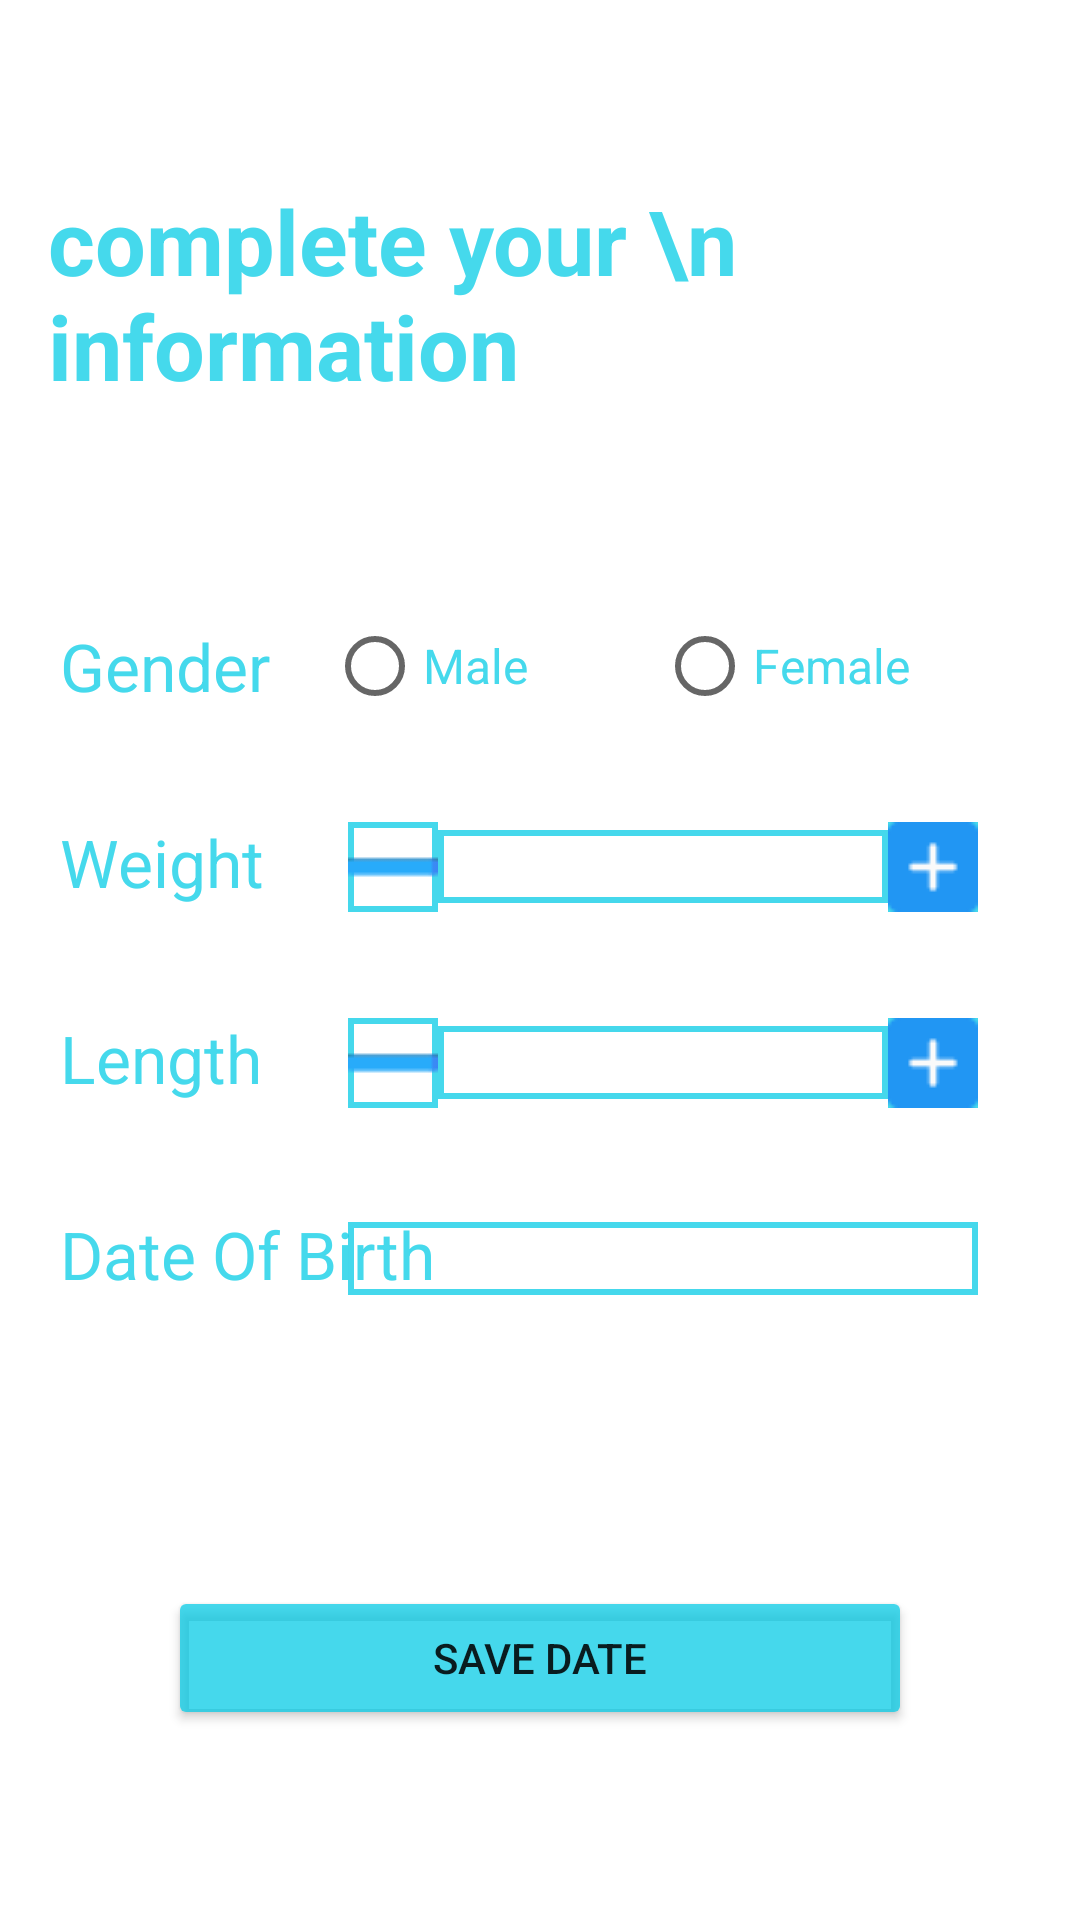

Screen size 1080 x 1920. Icon name, then its center in pixels as (x=x, y=y):
minus: (x=393, y=867), (x=393, y=1063)
plus: (x=933, y=867), (x=933, y=1063)
